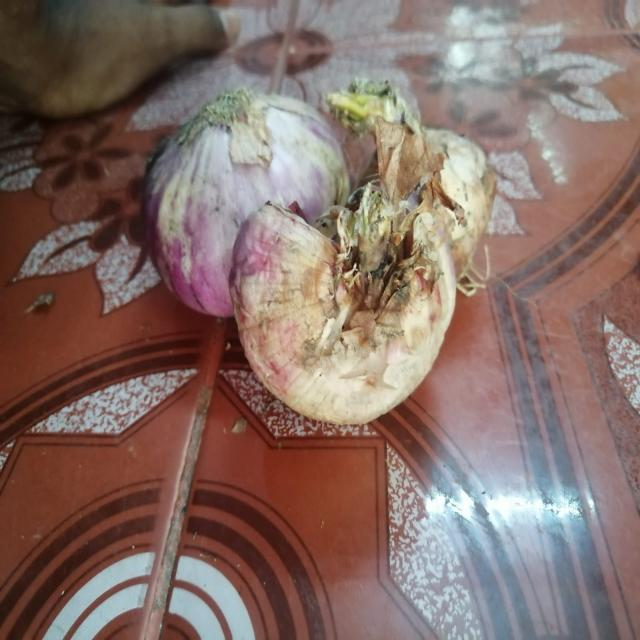rotten: (312, 216, 410, 301)
sprouting: (322, 85, 394, 119)
